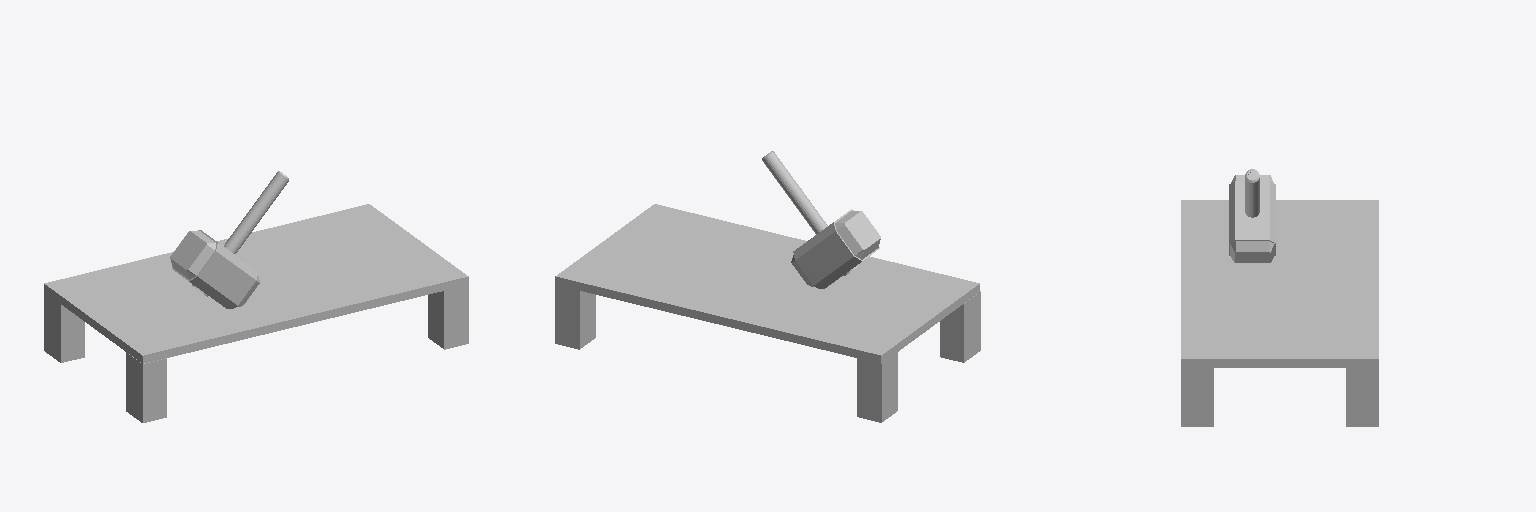
Rendered from coffeetable.obj.
3 views of the same model, side by side, from view 1: azimuth 30°, elevation 25°; view 2: azimuth 150°, elevation 25°; view 3: azimuth 270°, elevation 25° (orthographic).
Parts seen in each view (by area): view 1: thor_group_hammer; view 2: thor_group_hammer; view 3: thor_group_hammer.
Part boxes in pixels (x1,y1,x2,y2): thor_group_hammer: (44,171,468,422); thor_group_hammer: (555,151,980,422); thor_group_hammer: (1181,169,1378,426).
Size of the model in its own units: 103 by 55.21 by 54.43.